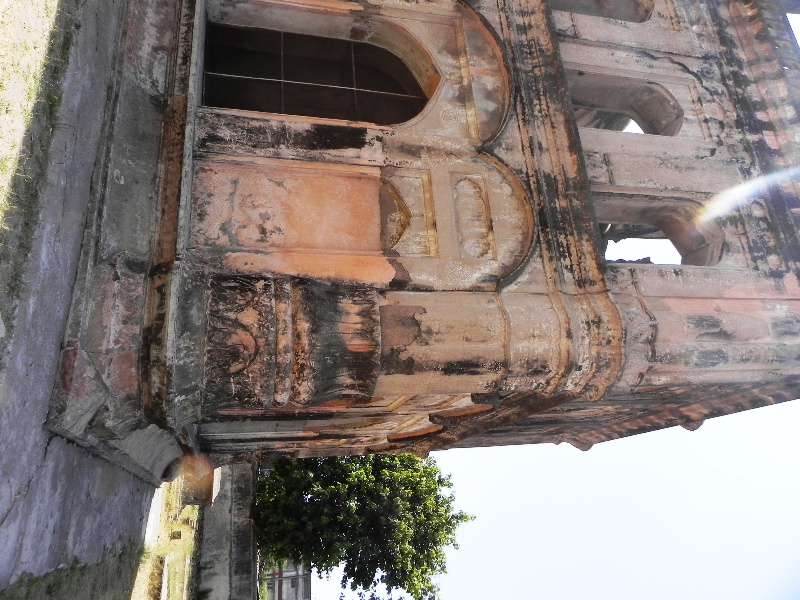Spalling: (385, 257, 417, 290)
